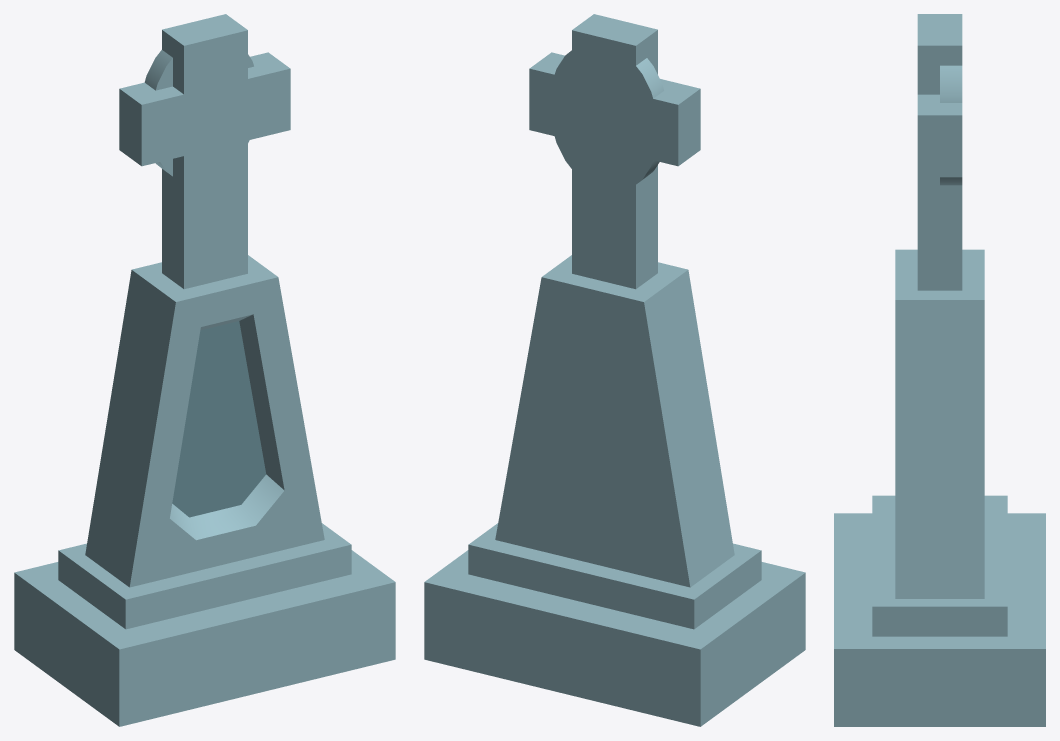
The model's file is gravestoneCross.fbx.
3 views of the same model, side by side, from view 1: azimuth 30°, elevation 25°; view 2: azimuth 150°, elevation 25°; view 3: azimuth 270°, elevation 25° (orthographic).
Parts seen in each view (by area): view 1: gravestoneCross; view 2: gravestoneCross; view 3: gravestoneCross.
Part boxes in pixels (bbox=[...]): gravestoneCross: bbox=[14, 14, 395, 726]; gravestoneCross: bbox=[424, 14, 805, 726]; gravestoneCross: bbox=[834, 14, 1045, 726].
Bounding box in the file's own units: 4.42 × 9.54 × 2.91.
